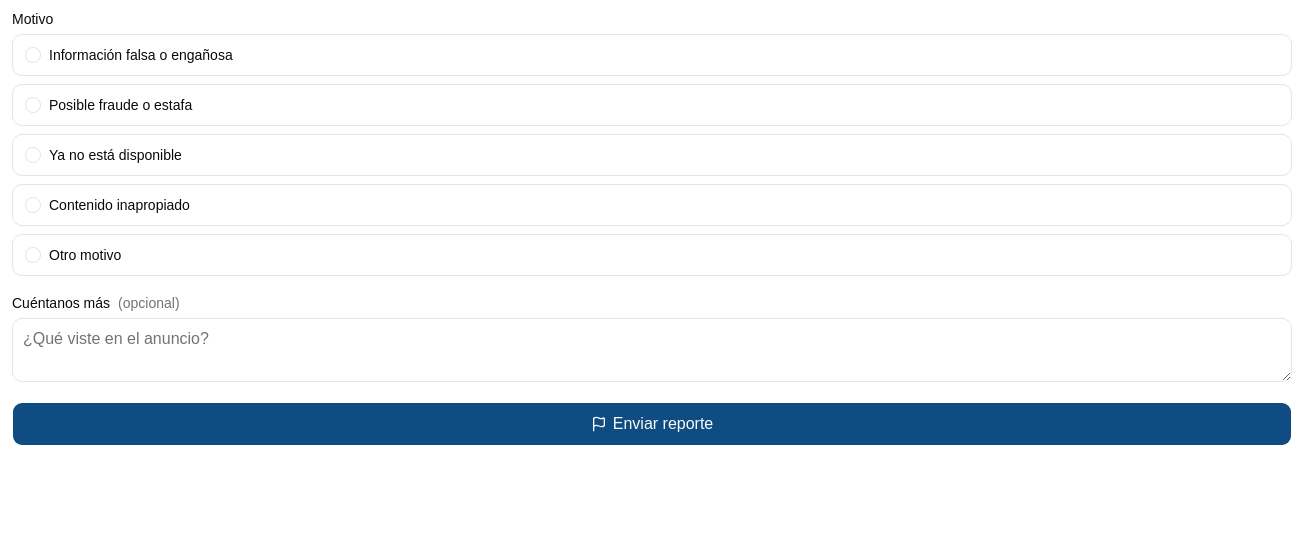
ReportPropertyForm › ante un fallo del envío lo avisa y deja reintentar
The image size is (1304, 543).
Click the radio button named "Contenido inapropiado" next to "Contenido inapropiado". click: (33, 205)
box: [25,197,41,213]
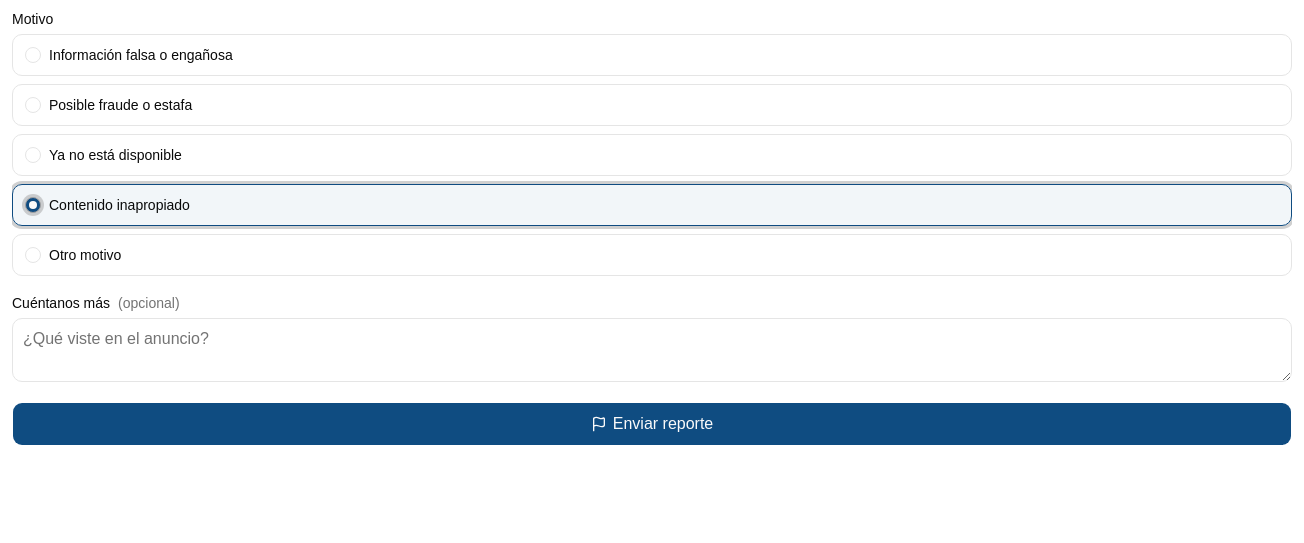
Click the button "Enviar reporte". click: (652, 424)
box: [12,402,1292,446]
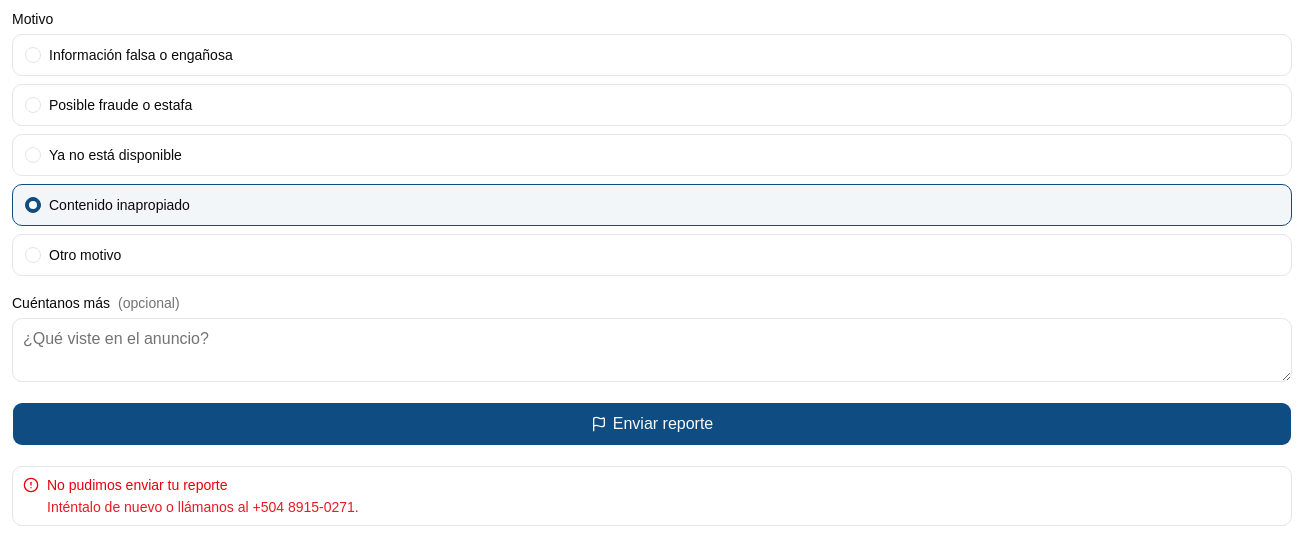
Check: the text "No pudimos enviar tu reporte" is shown, box [47,477,228,493]
